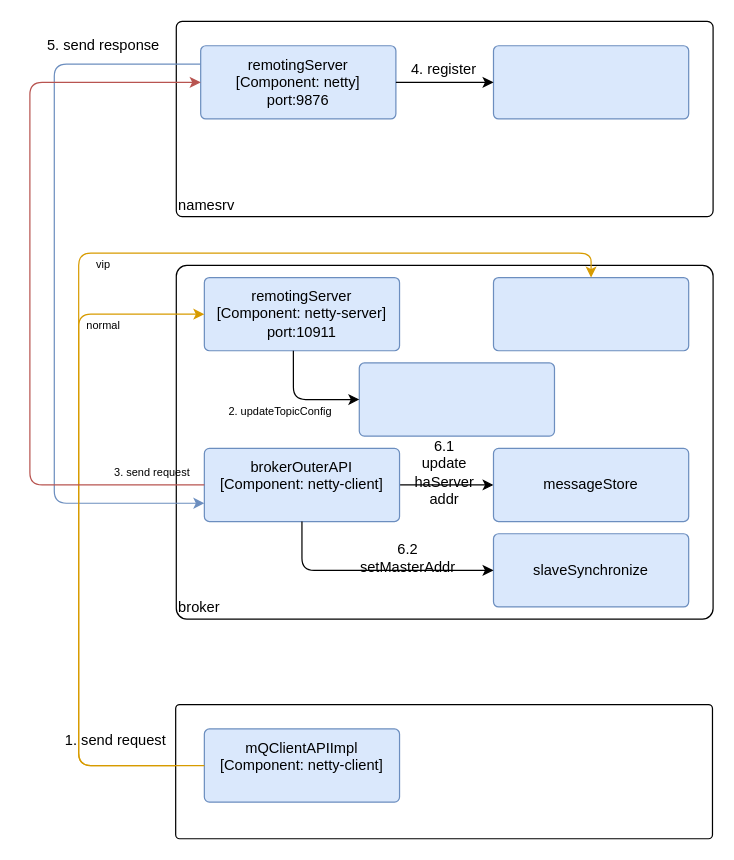
Some shapes in this 734 by 860 pixel diagram are drawn without their labels. The box of each missing label's shape, as (x1, y1, x2, y2) in pixels:
admin: (174, 703, 712, 839)
fastRemotingServer [Component: netty-server ] port:10909: (492, 276, 689, 351)
routeInfoManager [Component: Map ]: (492, 45, 689, 119)
topicConfigManager: (358, 362, 554, 436)
